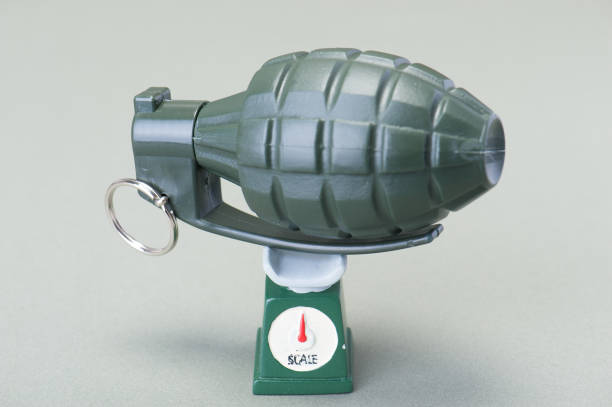e1: (102, 50, 510, 251)
